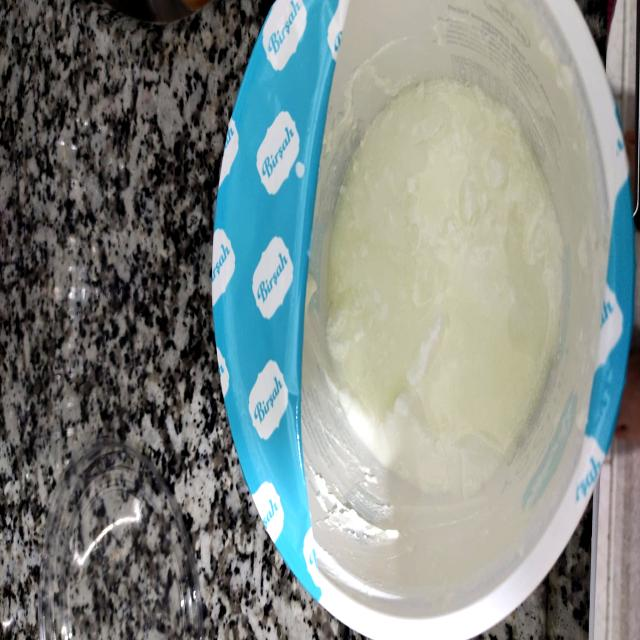yogurt: (236, 8, 622, 640)
